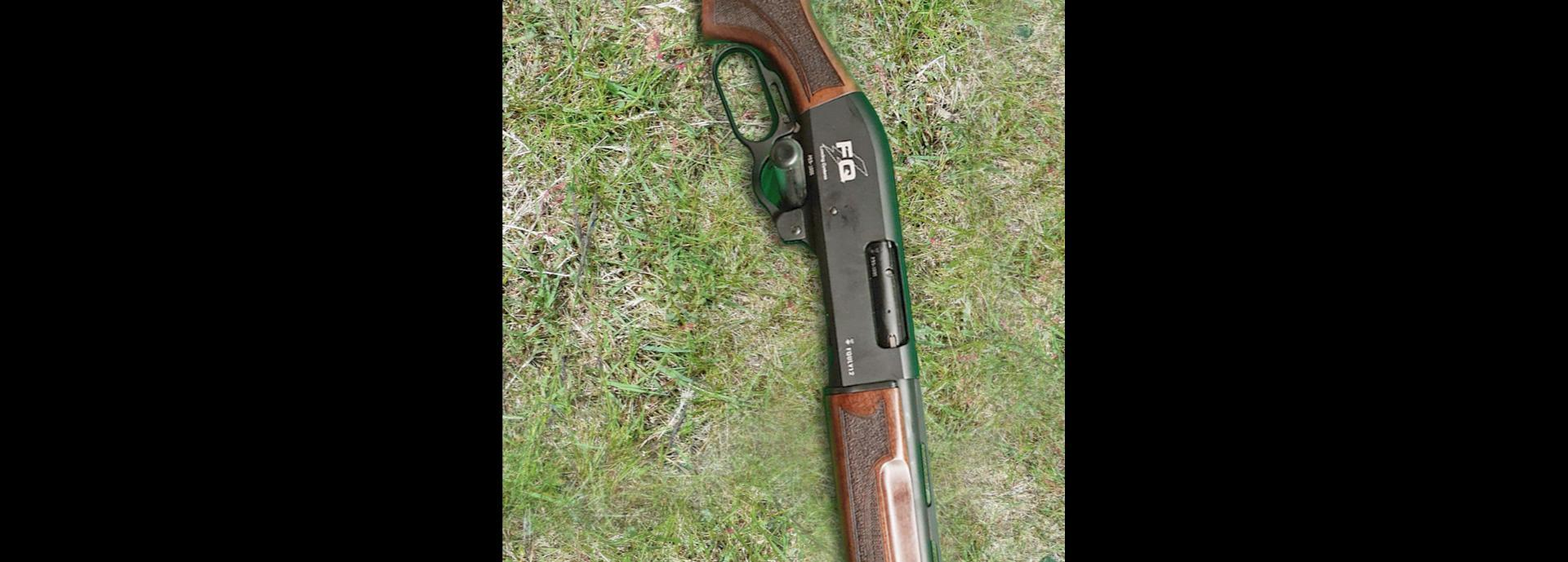gun: (572, 0, 982, 562)
